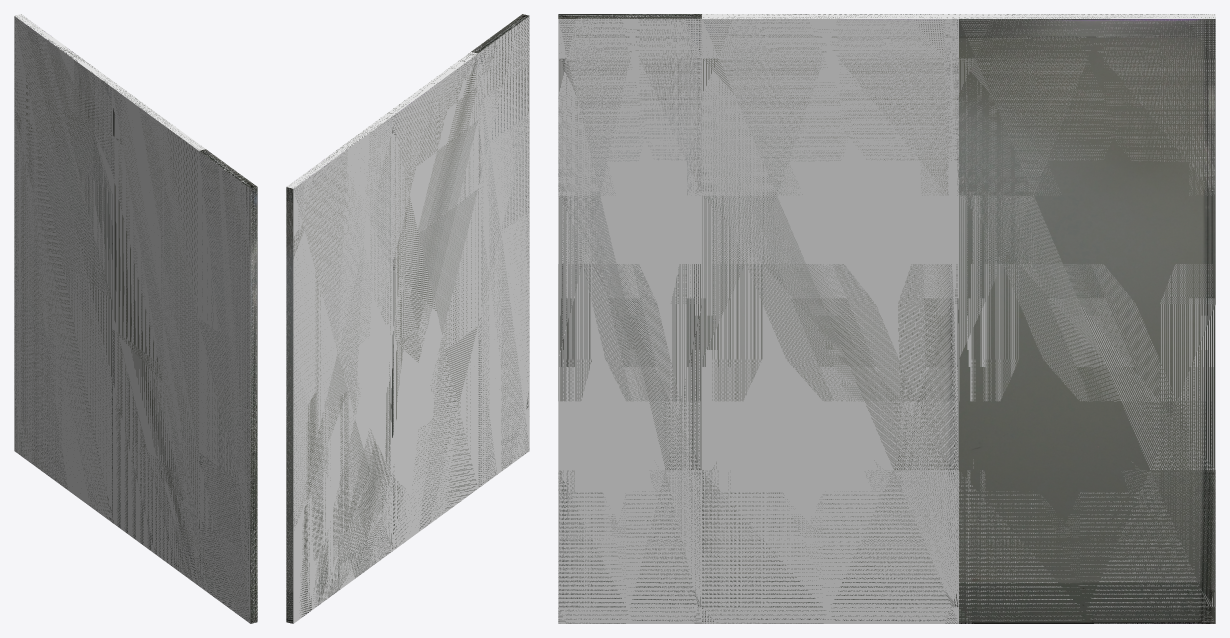
Rendered from SRS_divider1.dae.
3 renders of one model, left to right at view 1: azimuth 30°, elevation 25°; view 2: azimuth 150°, elevation 25°; view 3: azimuth 270°, elevation 25°, orthographic. The views are drawn at different scales.
Visible parts, largest first — view 1: SketchUp (×2); view 2: SketchUp (×3); view 3: SketchUp (×2).
Part boxes in pixels (<box>): SketchUp (×2): <box>14,14,257,623</box>; SketchUp (×3): <box>286,14,529,623</box>; SketchUp (×2): <box>558,14,1215,623</box>.
Bounding box in the file's own units: 0.0453 × 2.56 × 2.6.
10 materials, 8 textured.
